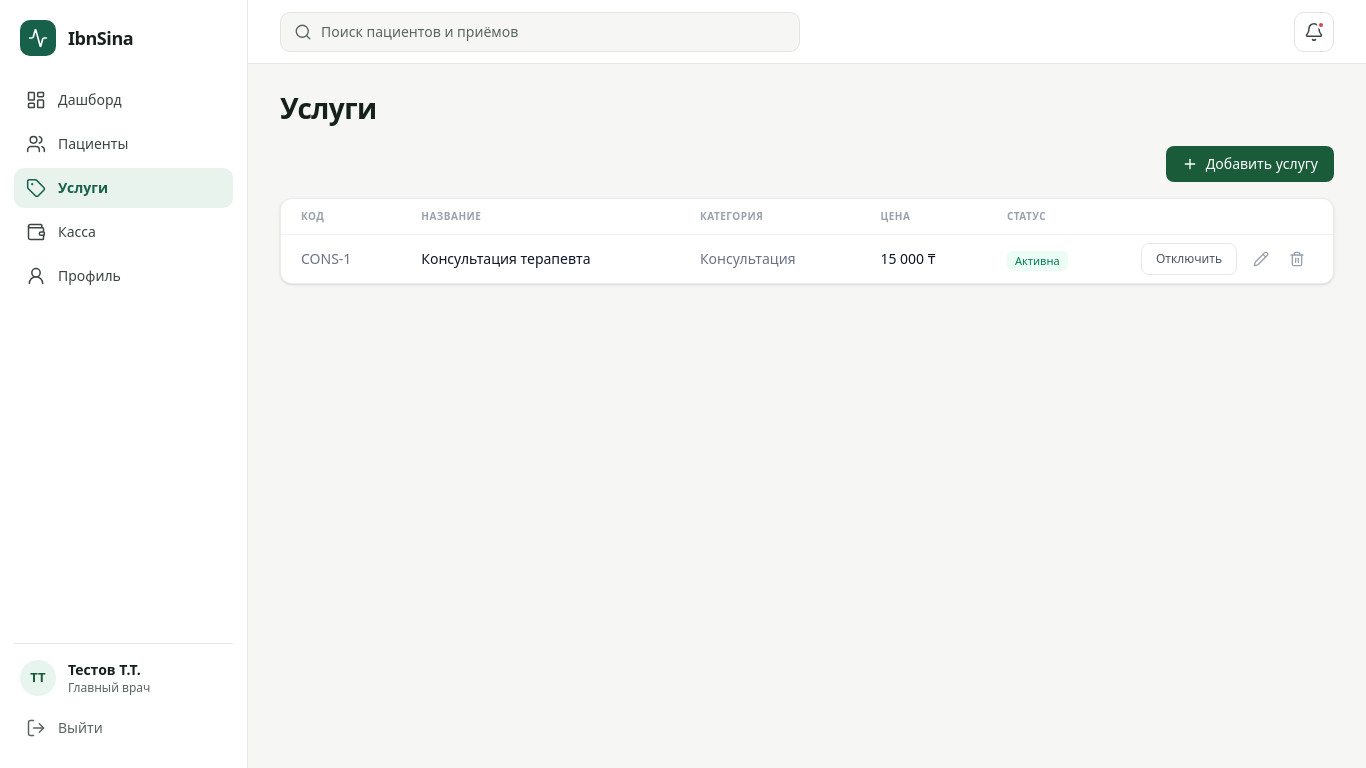
Test: услуги › удаление: модалка подтверждения, после DELETE строка исчезает
Click the button named "Удалить Консультация терапевта".
click(1297, 259)  # box [1281,243,1313,275]
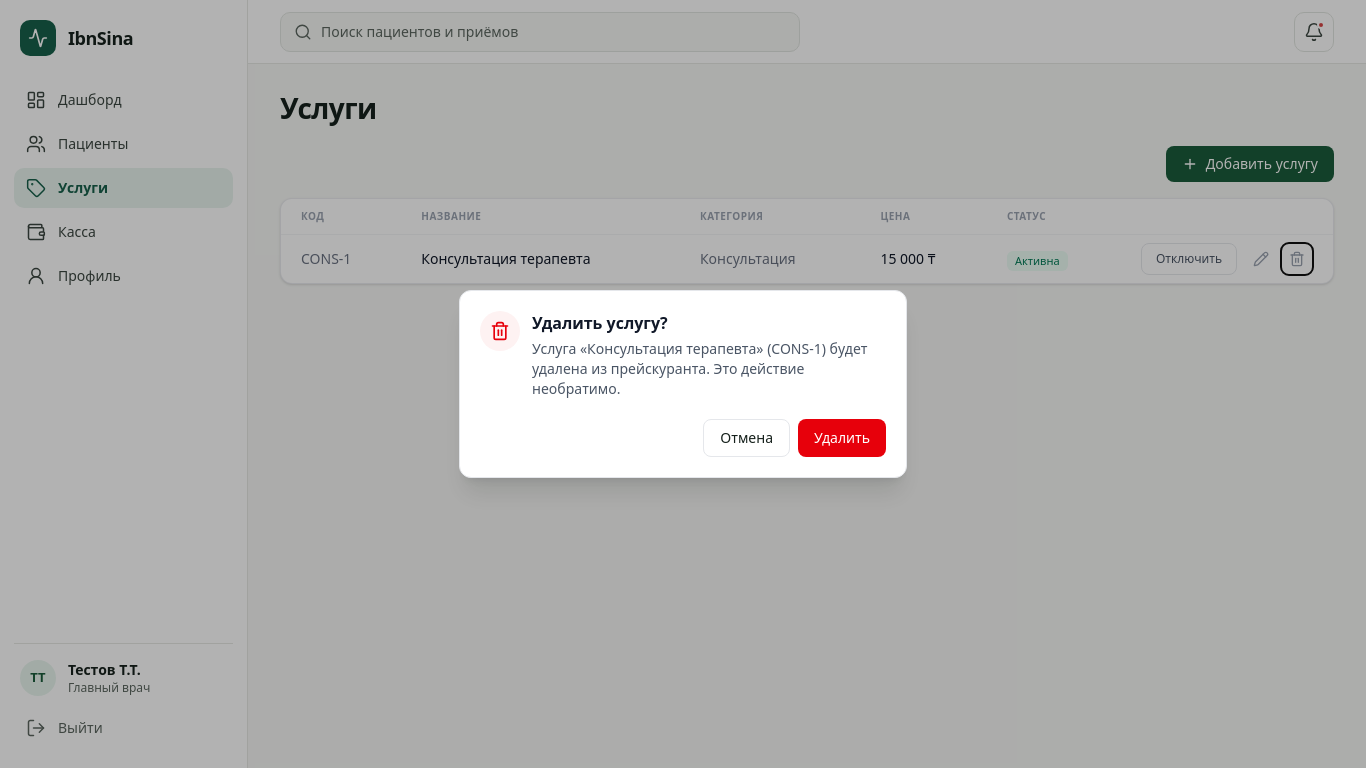
Expected: the heading "Удалить услугу?" is shown, [532,312,668,334]
Click the button "Удалить".
click(842, 438)  # box [798,419,886,457]
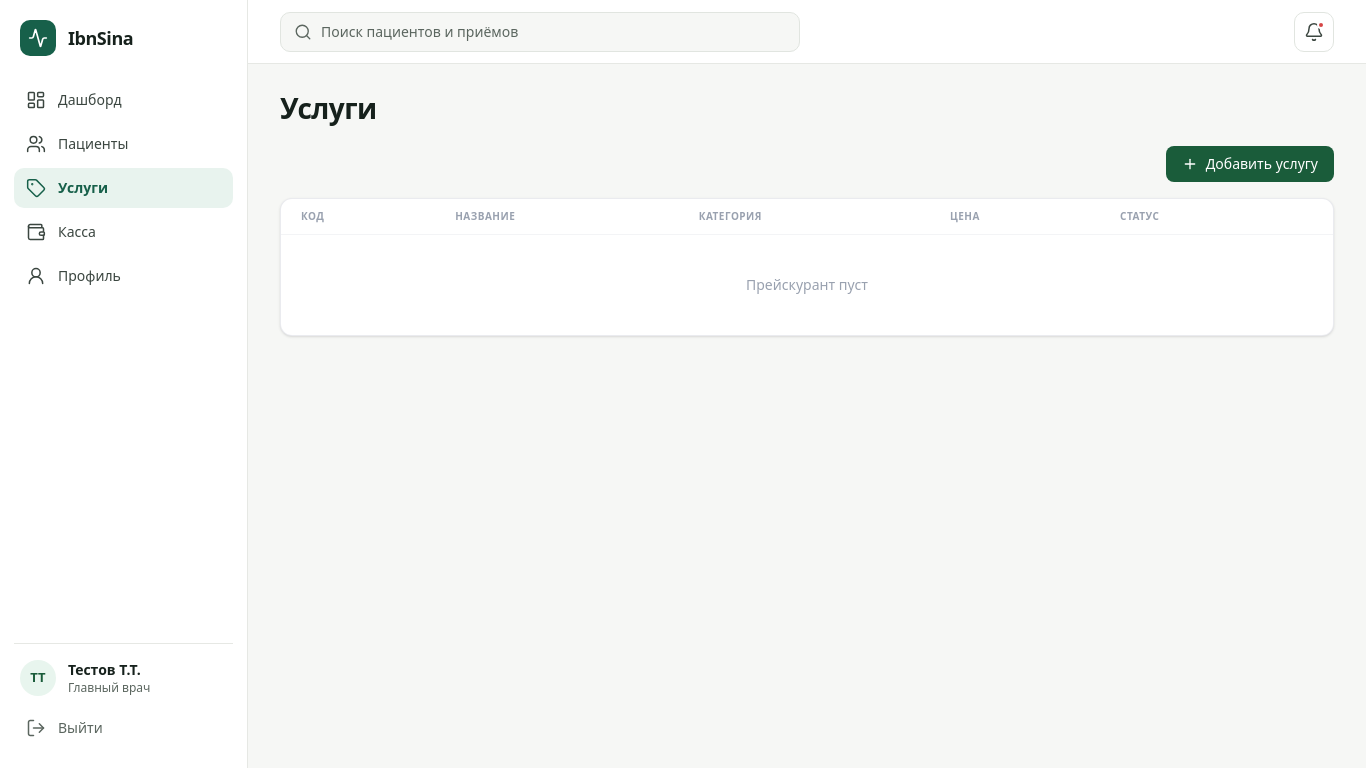
Expected: the text "Прейскурант пуст" is shown, [281,234,1333,335]
Expected: the dialog is gone
